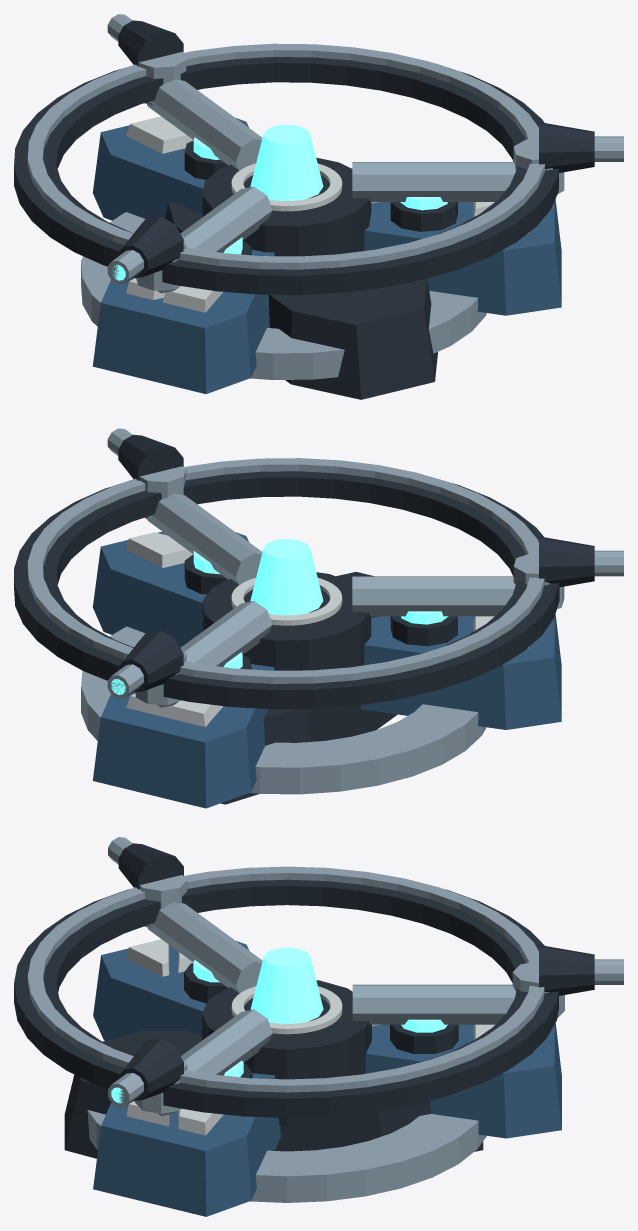
Rendered from c4_spiral.glb.
3 renders of one model, top to bottom at view 1: azimuth 30°, elevation 25°; view 2: azimuth 150°, elevation 25°; view 3: azimuth 270°, elevation 25°, orthographic.
Visible parts, largest first — view 1: radial_rotor / Chassis, radial_rotor / Titanium, c4_spiral / Armor, c4_spiral / Chassis, c4_spiral / Titanium, c4_spiral / Energy, c4_spiral / Identification; view 2: radial_rotor / Chassis, radial_rotor / Titanium, c4_spiral / Armor, c4_spiral / Chassis, c4_spiral / Titanium, c4_spiral / Energy, c4_spiral / Identification; view 3: radial_rotor / Chassis, radial_rotor / Titanium, c4_spiral / Armor, c4_spiral / Chassis, c4_spiral / Titanium, c4_spiral / Energy, c4_spiral / Identification.
Boxes of the visible parts, bbox=[...] form: radial_rotor / Chassis: bbox=[14, 20, 594, 294]; radial_rotor / Titanium: bbox=[27, 14, 623, 293]; c4_spiral / Armor: bbox=[92, 118, 561, 393]; c4_spiral / Chassis: bbox=[165, 140, 457, 399]; c4_spiral / Titanium: bbox=[81, 202, 486, 379]; c4_spiral / Energy: bbox=[193, 124, 447, 254]; c4_spiral / Identification: bbox=[126, 116, 528, 312]; radial_rotor / Chassis: bbox=[14, 434, 594, 709]; radial_rotor / Titanium: bbox=[27, 428, 623, 707]; c4_spiral / Armor: bbox=[92, 531, 561, 808]; c4_spiral / Chassis: bbox=[184, 554, 457, 804]; c4_spiral / Titanium: bbox=[81, 626, 486, 794]; c4_spiral / Energy: bbox=[193, 539, 448, 668]; c4_spiral / Identification: bbox=[126, 532, 528, 726]; radial_rotor / Chassis: bbox=[14, 843, 594, 1117]; radial_rotor / Titanium: bbox=[27, 837, 623, 1116]; c4_spiral / Armor: bbox=[93, 941, 561, 1216]; c4_spiral / Chassis: bbox=[64, 963, 483, 1158]; c4_spiral / Titanium: bbox=[87, 1024, 486, 1202]; c4_spiral / Energy: bbox=[193, 947, 447, 1077]; c4_spiral / Identification: bbox=[126, 939, 528, 1135].
Bounding box in the file's own units: 1.82 × 0.625 × 1.86.
